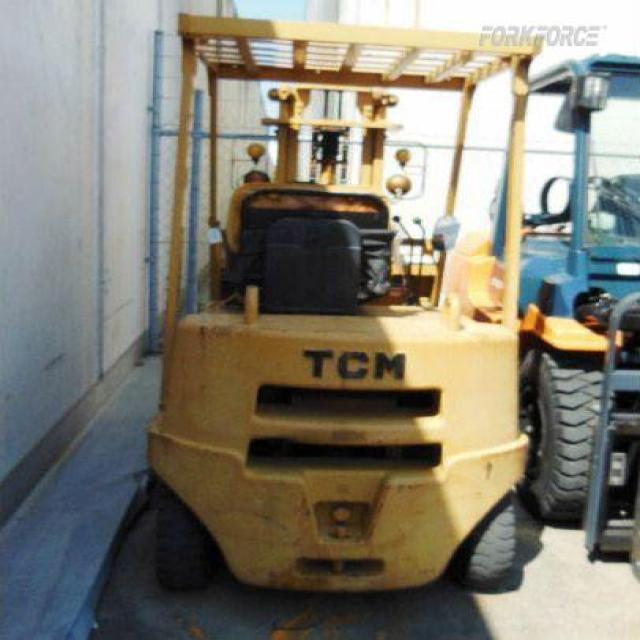forklift: (128, 12, 558, 630)
